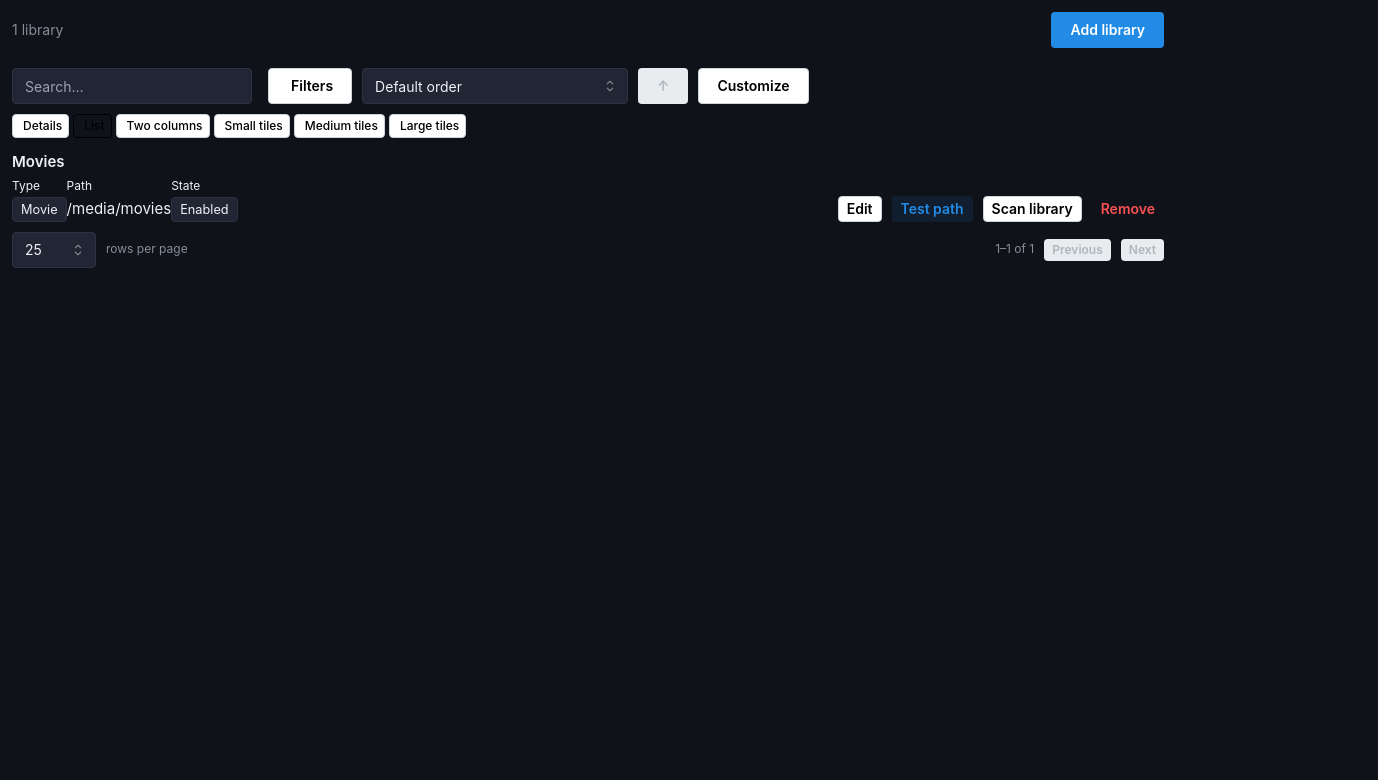
Test: LibraryManager › validates and rescans an existing library
Expected: the text "/media/movies" is shown, 67,196 -> 171,220
Click the button "Test path". click: (932, 209)
box: 892,196 -> 972,222
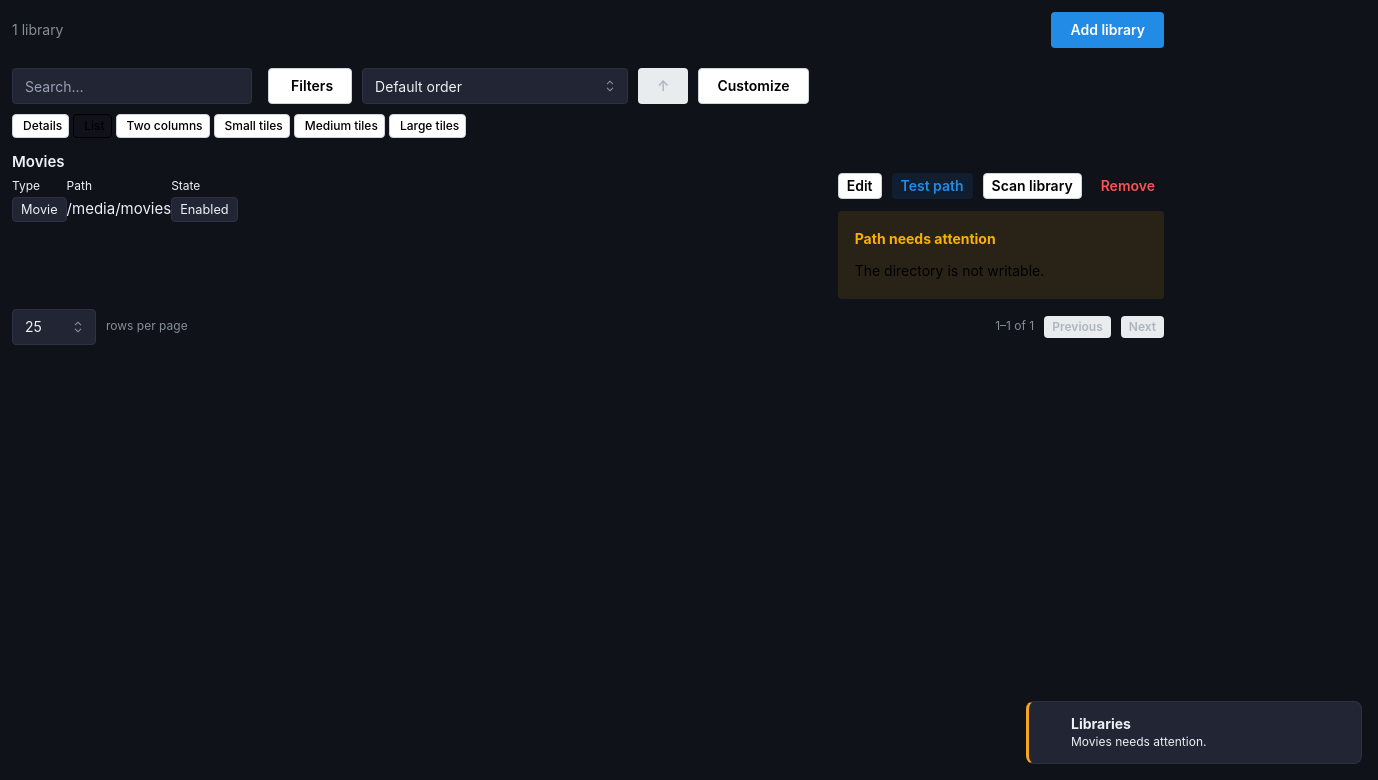
Result: the text "The directory is not writable." is shown at 855,262 -> 1044,279
Click the button "Scan library". click: (1032, 186)
box: 983,173 -> 1082,199
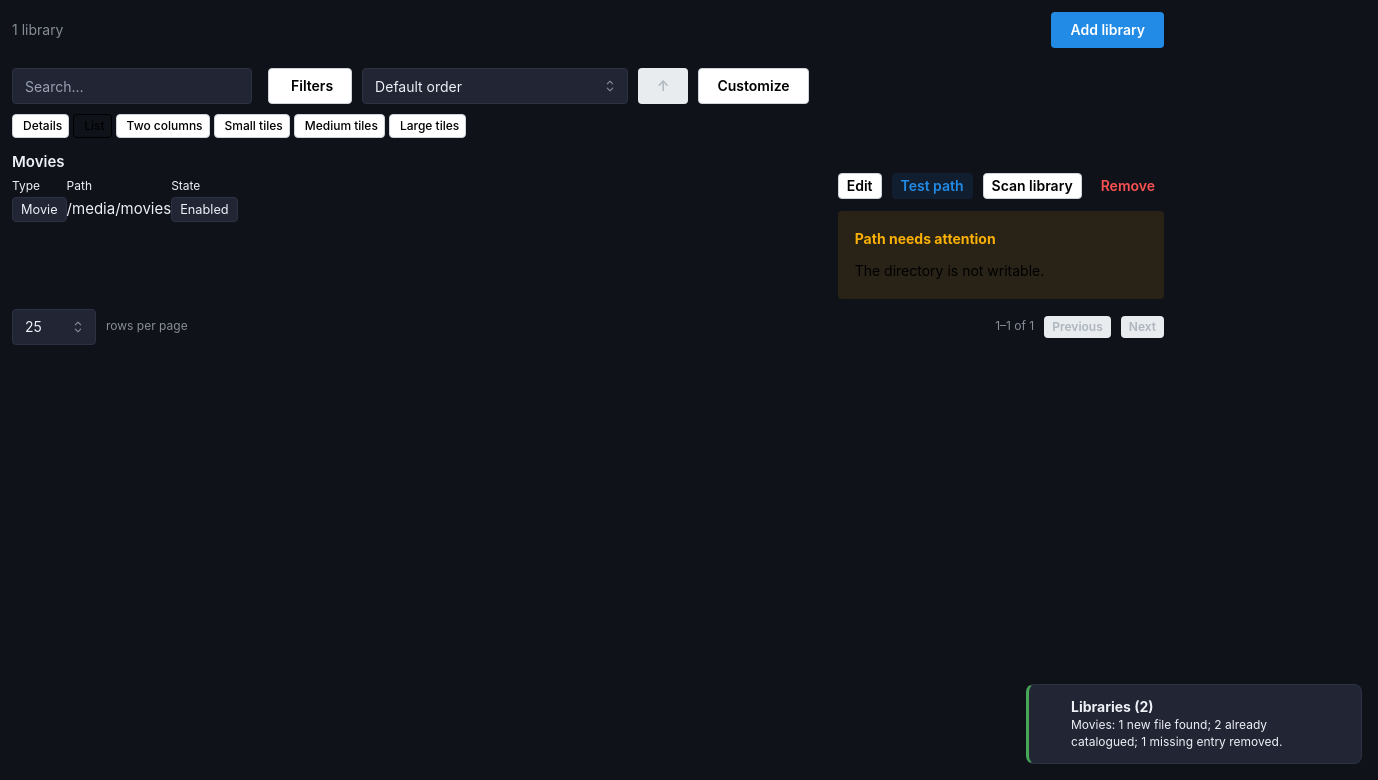
Result: the text "1 new file found; 2 already catalogued; 1 missing entry removed" is shown at 1071,717 -> 1282,749
